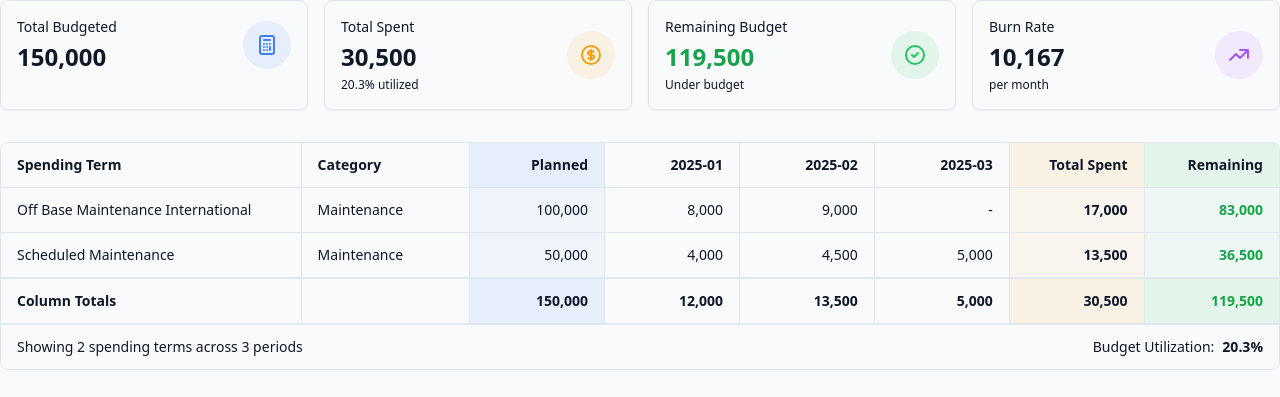
Scenario: BudgetTable › Inline Editing - Planned Amount › should validate numeric input for planned amount
Click the text "100,000": x=562, y=210 [536,200,588,220]
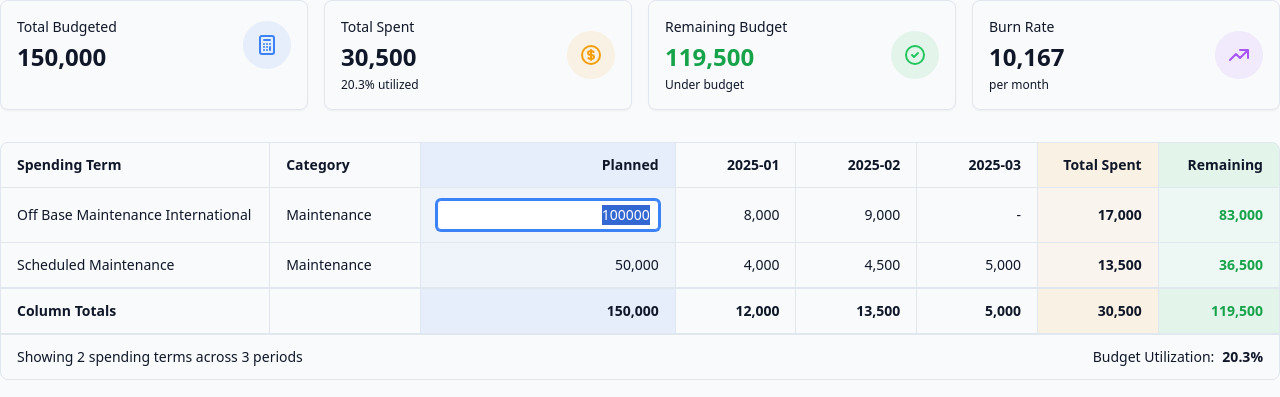
Replace the text in the field with "abc": x=548, y=215 [437,200,659,230]
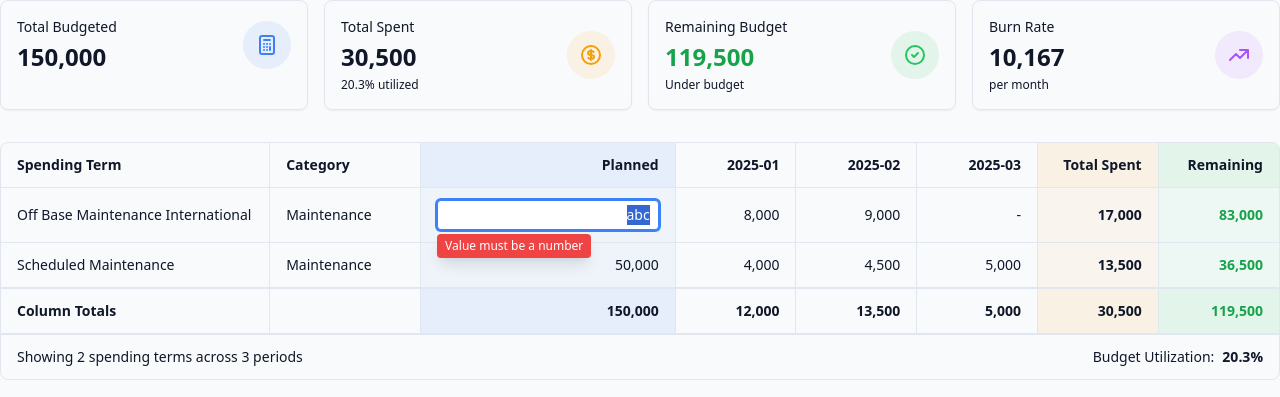
Result: the text "Value must be a number" is shown at [437,234,591,258]
